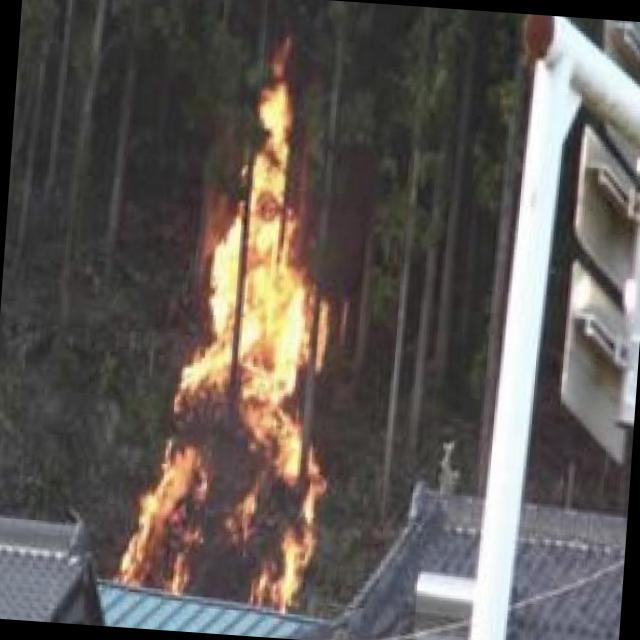Fire: (121, 31, 359, 621)
